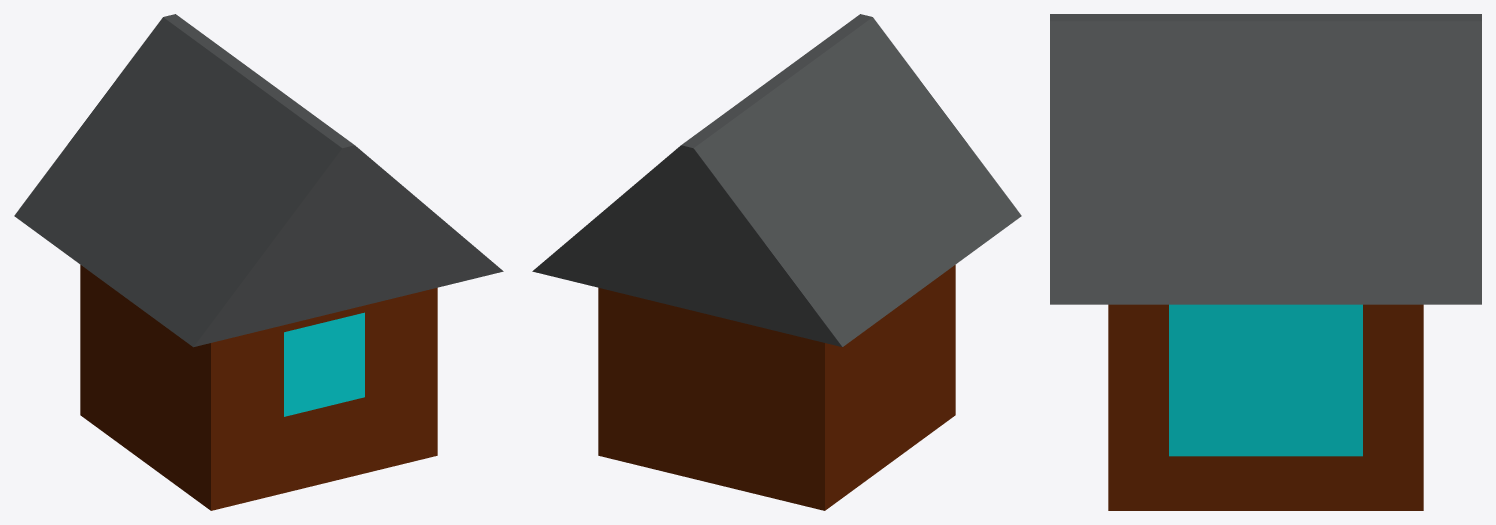
The picture shows the model from 3 angles, left to right: view 1: azimuth 30°, elevation 25°; view 2: azimuth 150°, elevation 25°; view 3: azimuth 270°, elevation 25°; orthographic projection. The views are drawn at different scales.
Visible parts, largest first — view 1: 立方体, Cube; view 2: 立方体, Cube; view 3: 立方体, Cube.
Boxes of the visible parts, x1,y1,x2,y2 form: 立方体: (14,14,503,347); Cube: (80,265,437,510); 立方体: (532,14,1021,347); Cube: (598,265,955,510); 立方体: (1050,14,1481,304); Cube: (1108,304,1423,510).
Bounding box in the file's own units: 274 × 299 × 274.
